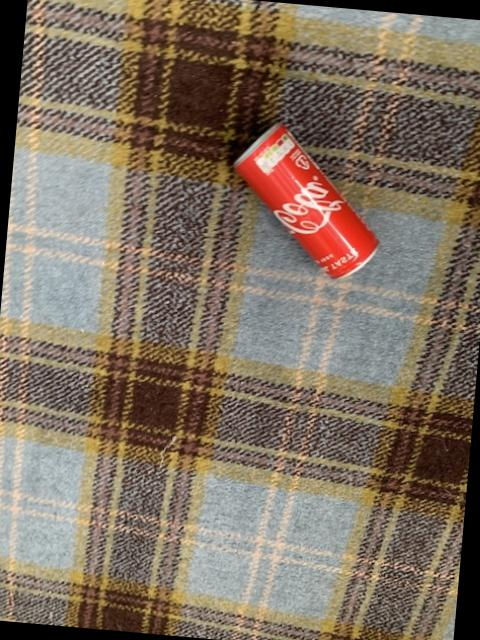metal: (236, 121, 379, 276)
